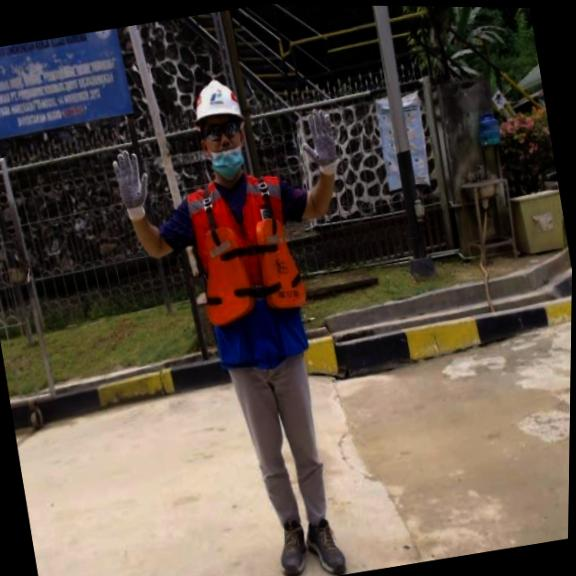safety_vest: (190, 211, 310, 329)
